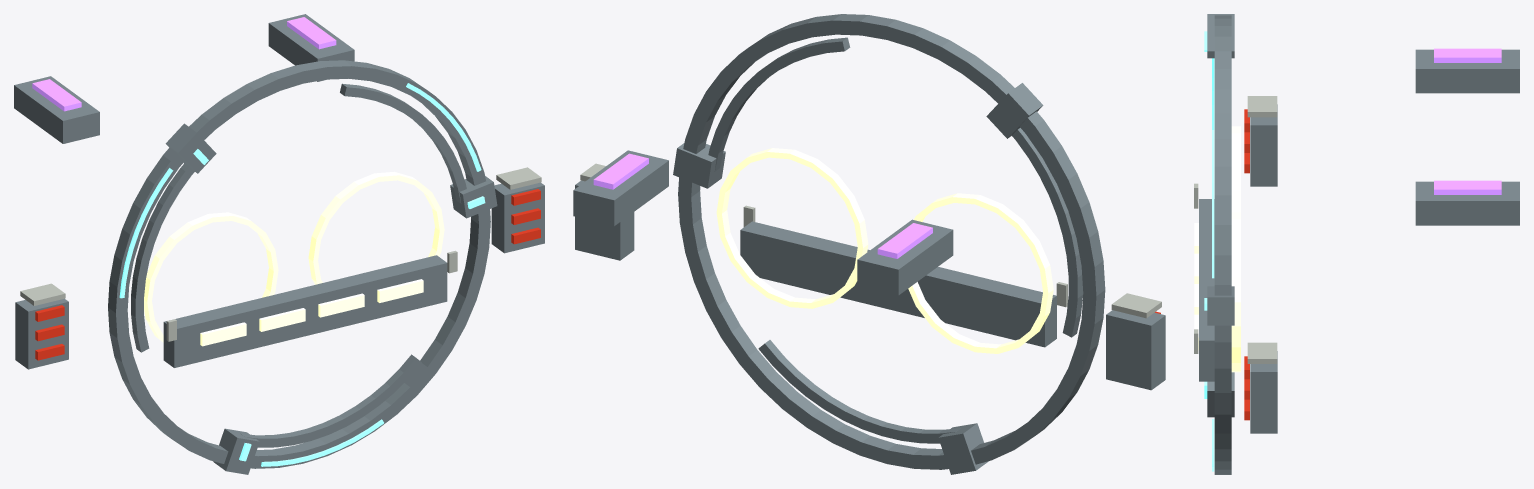
Rendered from totem_evolution.glb.
3 views of the same model, side by side, from view 1: azimuth 30°, elevation 25°; view 2: azimuth 150°, elevation 25°; view 3: azimuth 270°, elevation 25° (orthographic). The views are drawn at different scales.
Visible parts, largest first — view 1: TE_gyro_alloy, TE_instrument_housing, TE_boost_meter, TE_gyro_instruments, TE_brake_lamps, TE_service_markings, TE_power_lamps; view 2: TE_gyro_alloy, TE_instrument_housing, TE_boost_meter, TE_power_lamps, TE_service_markings; view 3: TE_instrument_housing, TE_gyro_alloy, TE_boost_meter, TE_power_lamps, TE_service_markings, TE_gyro_instruments, TE_brake_lamps.
Part boxes in pixels (x1=…): TE_gyro_alloy: x1=108, y1=60, x2=497, y2=474; TE_instrument_housing: x1=14, y1=14, x2=544, y2=369; TE_boost_meter: x1=144, y1=171, x2=444, y2=346; TE_gyro_instruments: x1=119, y1=83, x2=485, y2=466; TE_brake_lamps: x1=35, y1=189, x2=540, y2=360; TE_service_markings: x1=20, y1=167, x2=541, y2=341; TE_power_lamps: x1=32, y1=17, x2=336, y2=111; TE_gyro_alloy: x1=673, y1=14, x2=1105, y2=474; TE_instrument_housing: x1=573, y1=150, x2=1165, y2=390; TE_boost_meter: x1=716, y1=148, x2=1053, y2=353; TE_power_lamps: x1=593, y1=153, x2=932, y2=258; TE_service_markings: x1=580, y1=163, x2=1161, y2=318; TE_instrument_housing: x1=1199, y1=49, x2=1519, y2=433; TE_gyro_alloy: x1=1207, y1=14, x2=1234, y2=474; TE_boost_meter: x1=1194, y1=126, x2=1240, y2=372; TE_power_lamps: x1=1434, y1=48, x2=1501, y2=194; TE_service_markings: x1=1194, y1=96, x2=1277, y2=363; TE_gyro_instruments: x1=1204, y1=31, x2=1214, y2=471; TE_brake_lamps: x1=1244, y1=109, x2=1249, y2=420.
Bounding box in the file's own units: 2.8 × 2.03 × 1.44.
